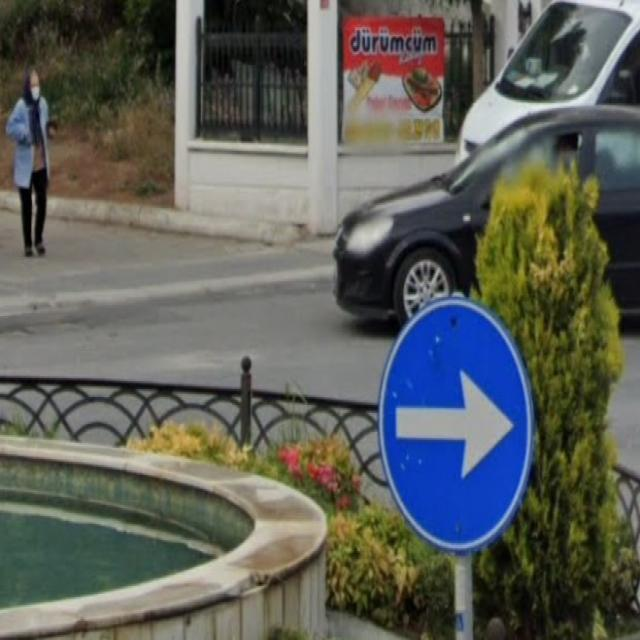Turn Right: (370, 290, 541, 544)
